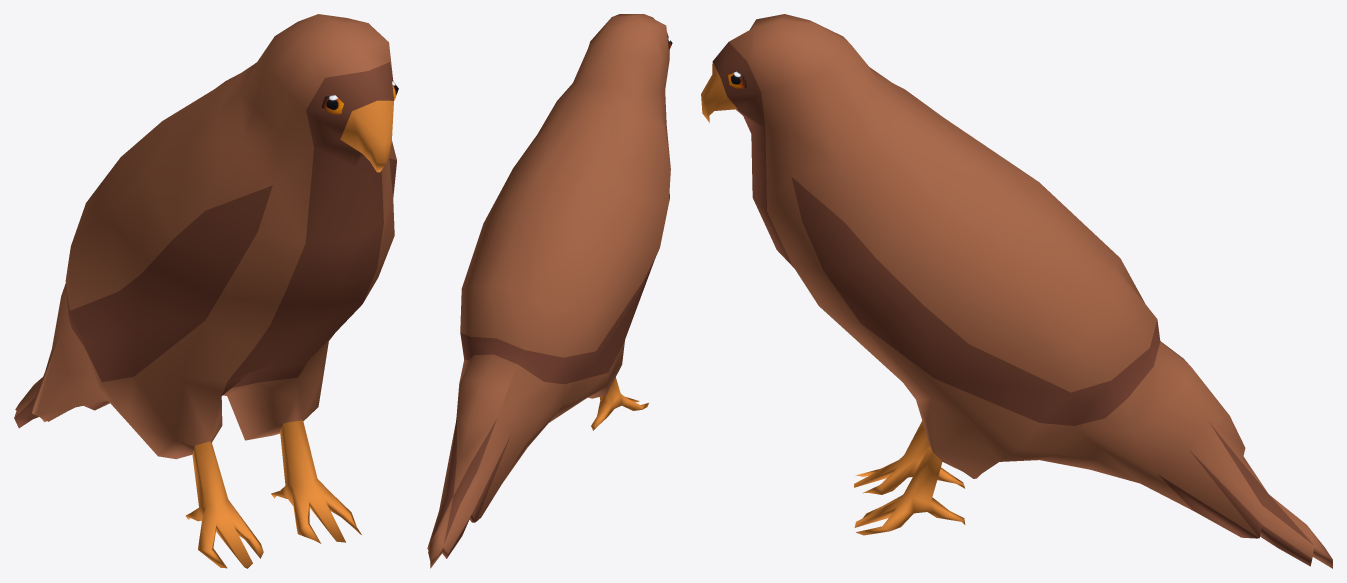
The model's file is Hawk.glb.
The picture shows the model from 3 angles, left to right: view 1: azimuth 30°, elevation 25°; view 2: azimuth 150°, elevation 25°; view 3: azimuth 270°, elevation 25°; orthographic projection. The views are drawn at different scales.
Visible parts, largest first — view 1: Hawk; view 2: Hawk; view 3: Hawk.
Part boxes in pixels (bbox=[...]): Hawk: bbox=[14, 14, 398, 568]; Hawk: bbox=[427, 14, 672, 568]; Hawk: bbox=[701, 14, 1332, 568].
Size of what is drawn, in the model's own units: 0.2596 by 0.6607 by 0.6901.
1 material, 1 textured.
